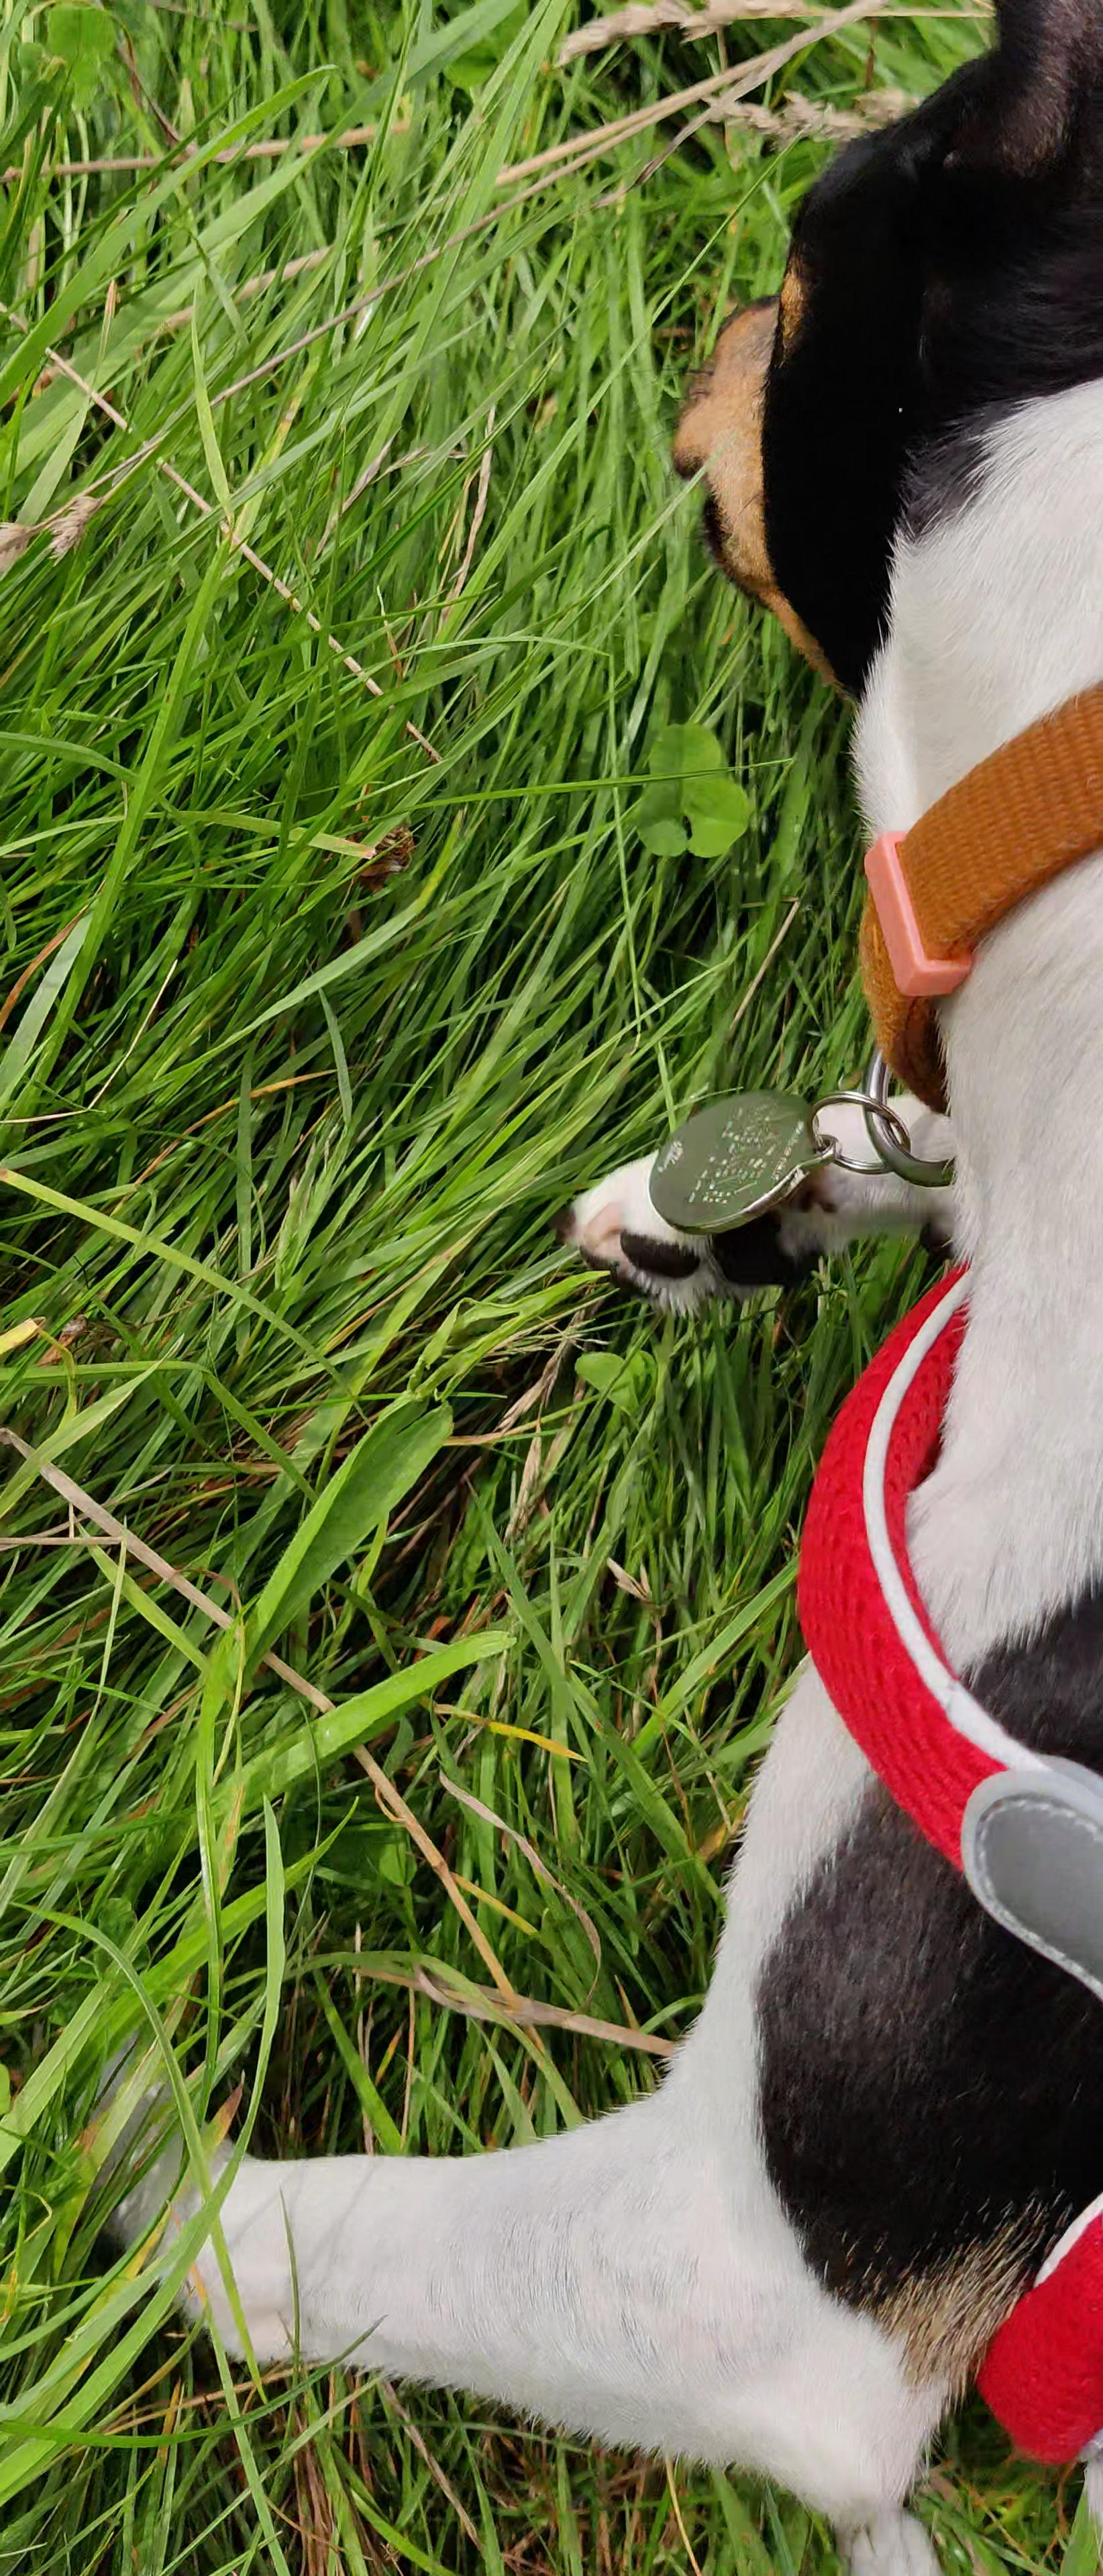Dog: (39, 0, 1103, 2576)
